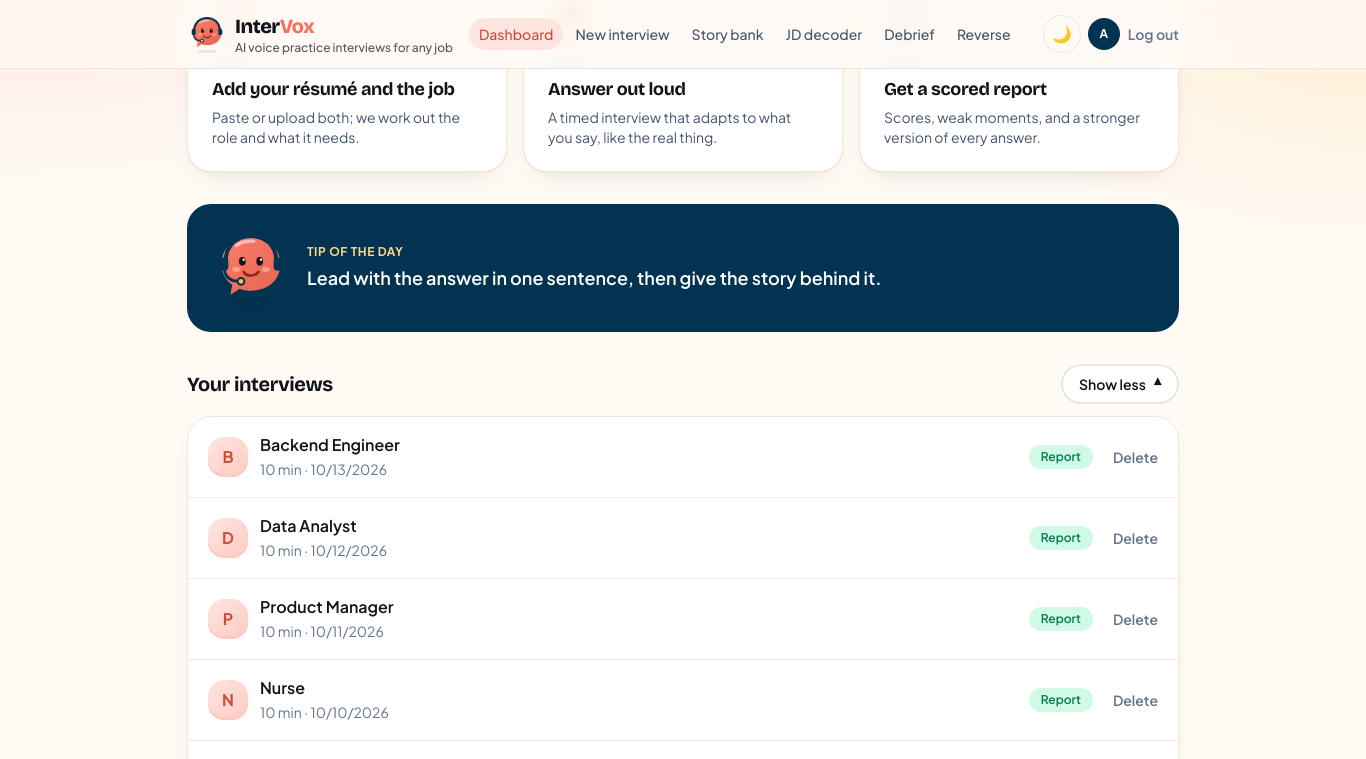
Dashboard interviews (T-136, T-137) › collapses to the 3 most recent with Show all, and remembers the choice
(page scrolled)
Click the button "Show less ▾" at (1120, 384), box [1061,364,1179,404]
(page scrolled)
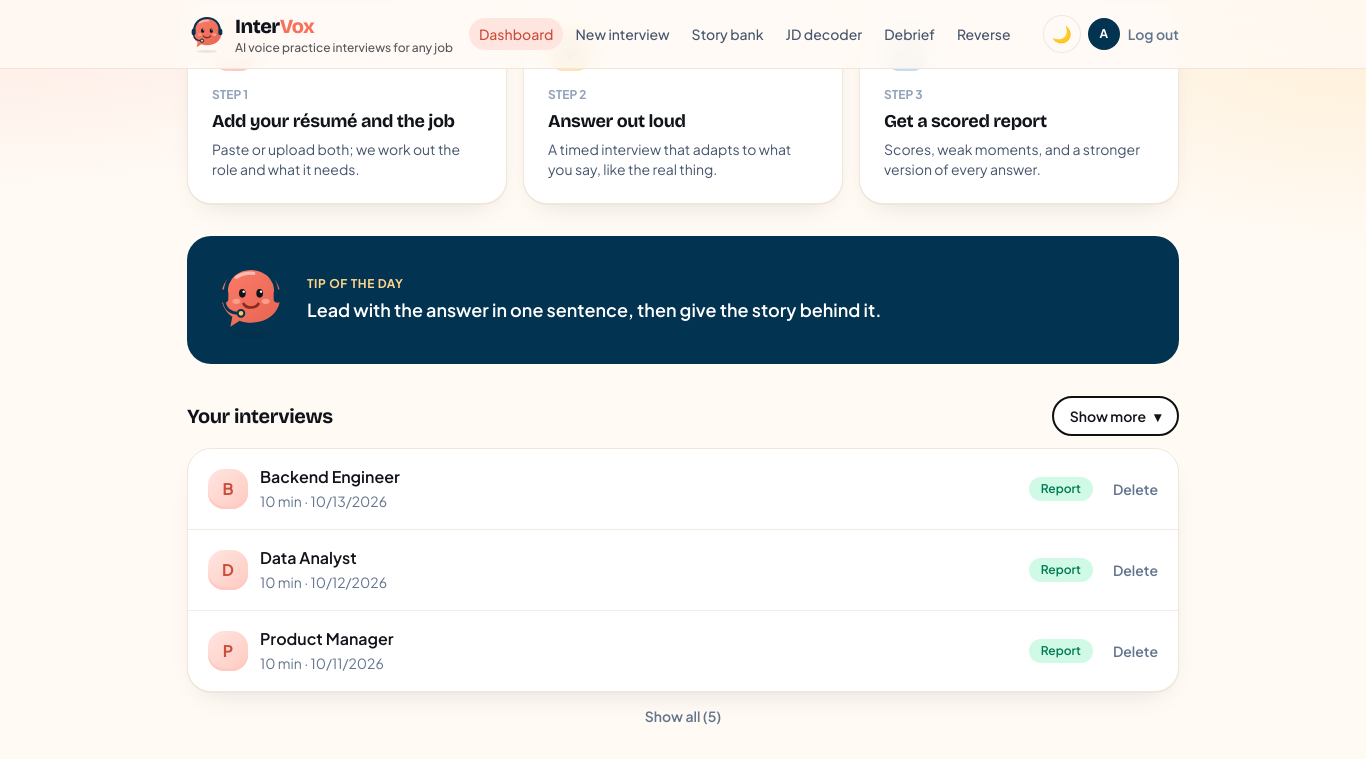
Check: the text "Product Manager" is shown, box [260,627,394,651]
Check: the link "Nurse" is gone
Check: the button "Show more ▾" is collapsed, box [1052,396,1179,436]
Click the button "Show all (5)" at (683, 716), box [645,706,721,726]
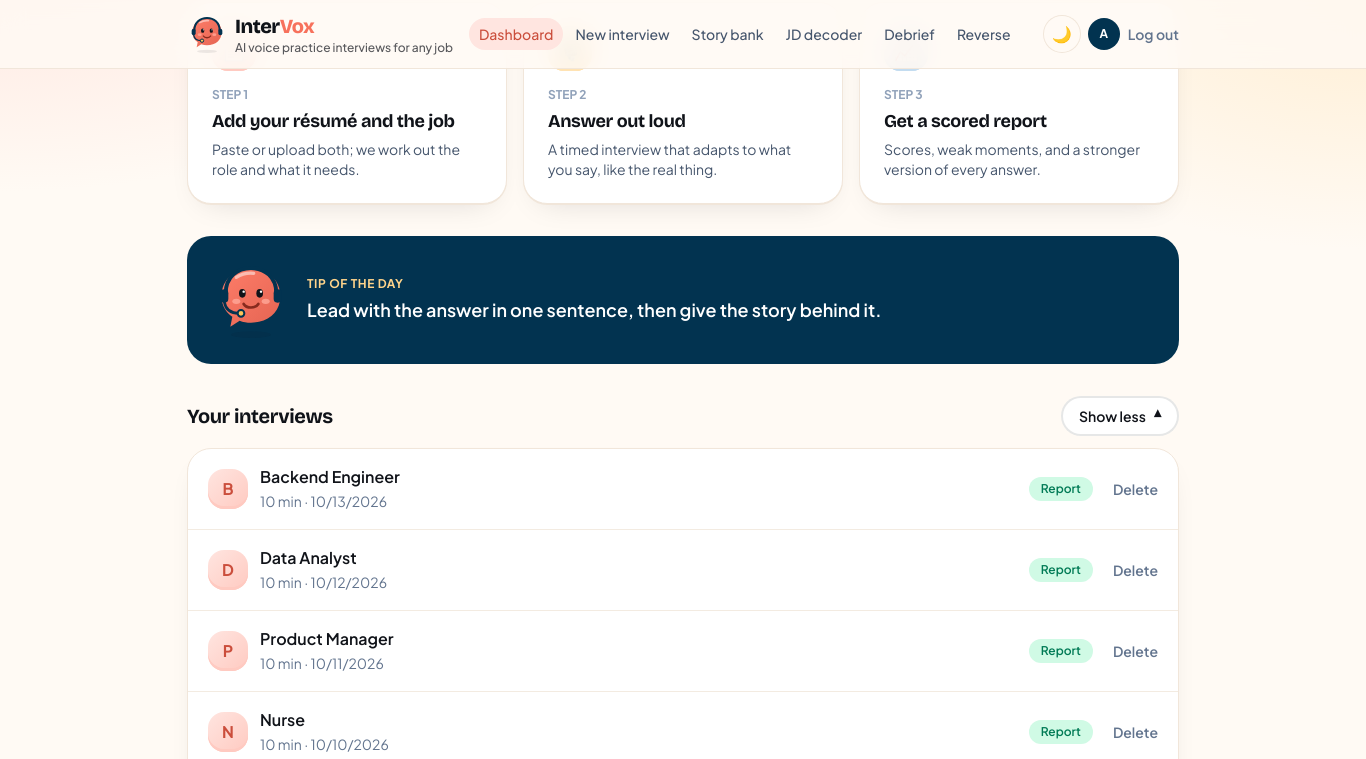
Check: the button "Show all" is gone
